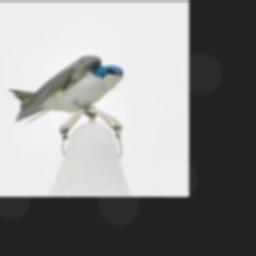Swallow: (7, 54, 124, 125)
